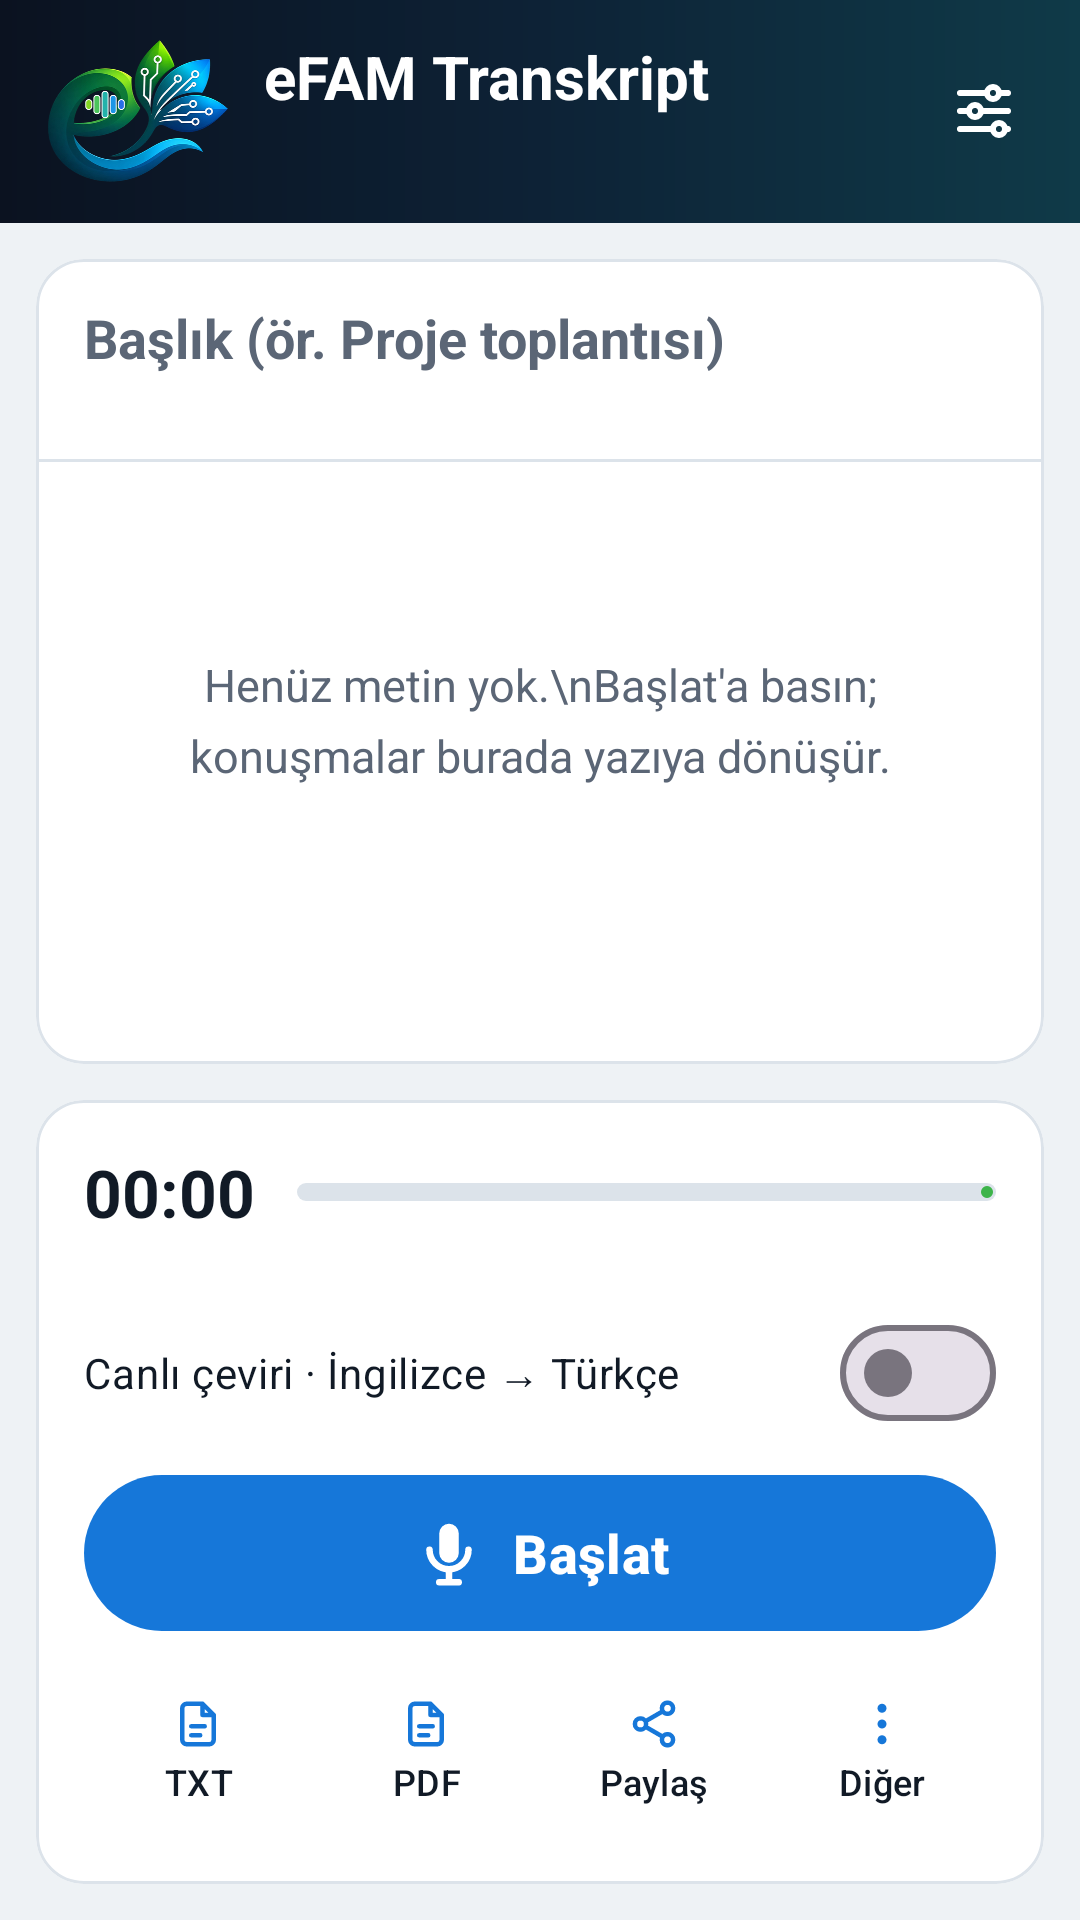

Named icons in this screenshot (1080x1920) and their centers, point (x, y):
Ayarlar: point (984, 111)
